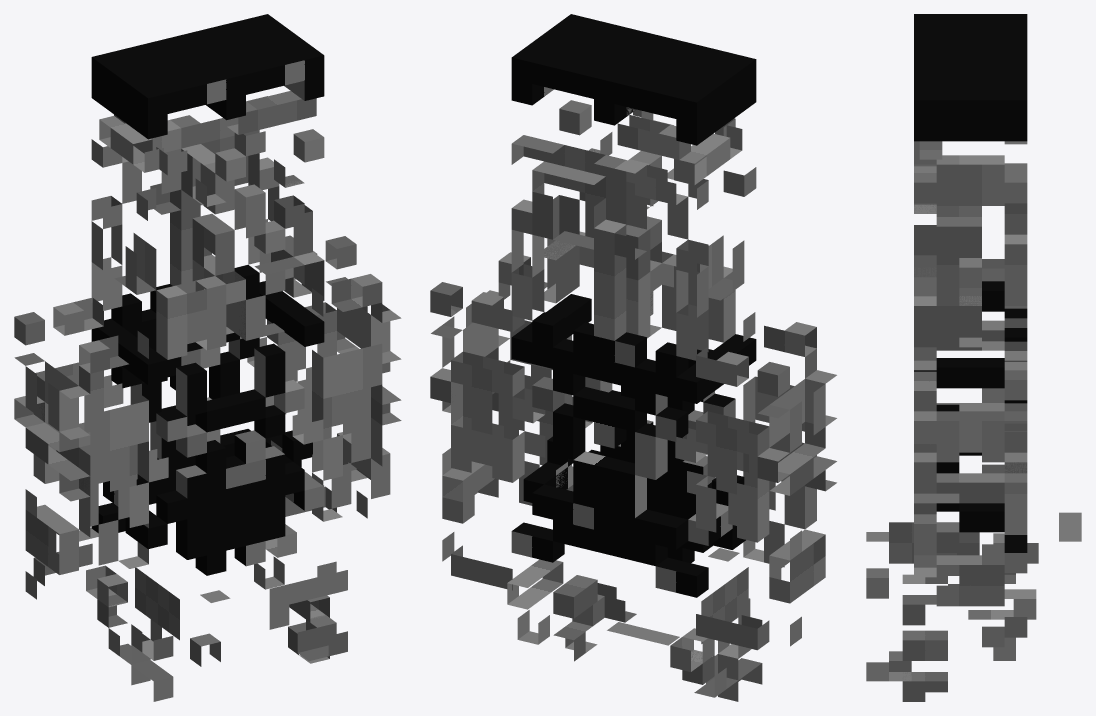
File: exo_full.obj
3 renders of one model, left to right at view 1: azimuth 30°, elevation 25°; view 2: azimuth 150°, elevation 25°; view 3: azimuth 270°, elevation 25°, orthographic. The views are drawn at different scales.
Parts seen in each view (by area): view 1: Body, RightArm, LeftLeg, LeftArm, RightLeg, Head, RightBoot, LeftBoot; view 2: Body, RightArm, LeftLeg, LeftArm, RightLeg, Head, RightBoot, LeftBoot; view 3: LeftArm, LeftLeg, Head, LeftBoot, Body, RightBoot, RightArm, RightLeg.
Boxes of the visible parts, bbox=[...] form: Body: bbox=[91, 265, 324, 575]; RightArm: bbox=[14, 298, 168, 599]; LeftLeg: bbox=[170, 91, 324, 340]; LeftArm: bbox=[247, 236, 401, 521]; RightLeg: bbox=[91, 114, 245, 359]; Head: bbox=[79, 524, 347, 701]; RightBoot: bbox=[91, 33, 245, 139]; LeftBoot: bbox=[172, 14, 324, 119]; Body: bbox=[511, 294, 756, 597]; RightArm: bbox=[675, 312, 836, 650]; LeftLeg: bbox=[511, 100, 673, 340]; LeftArm: bbox=[430, 252, 592, 590]; RightLeg: bbox=[614, 115, 756, 360]; Head: bbox=[507, 548, 762, 701]; RightBoot: bbox=[594, 34, 756, 145]; LeftBoot: bbox=[511, 14, 673, 122]; LeftArm: bbox=[914, 341, 1027, 647]; LeftLeg: bbox=[914, 141, 1027, 347]; Head: bbox=[866, 512, 1081, 701]; LeftBoot: bbox=[914, 52, 1027, 141]; Body: bbox=[914, 281, 1027, 573]; RightBoot: bbox=[914, 14, 1027, 61]; RightArm: bbox=[936, 259, 1004, 473]; RightLeg: bbox=[914, 155, 1004, 267].
Bounding box in the file's own units: 16.9 × 29.25 × 9.5.
